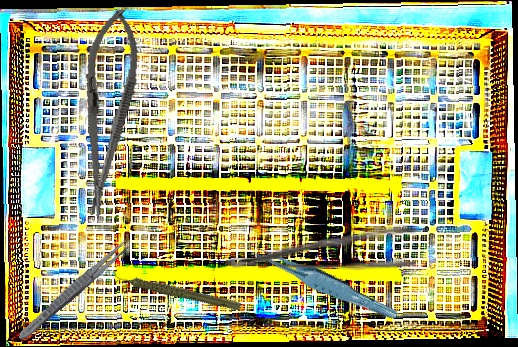Dressing Forceps: (14, 234, 135, 345), (226, 225, 416, 270)
Handpiece: (110, 244, 244, 336)
Needle Holder: (67, 6, 146, 219)
Tissue Forceps: (246, 232, 400, 331)
